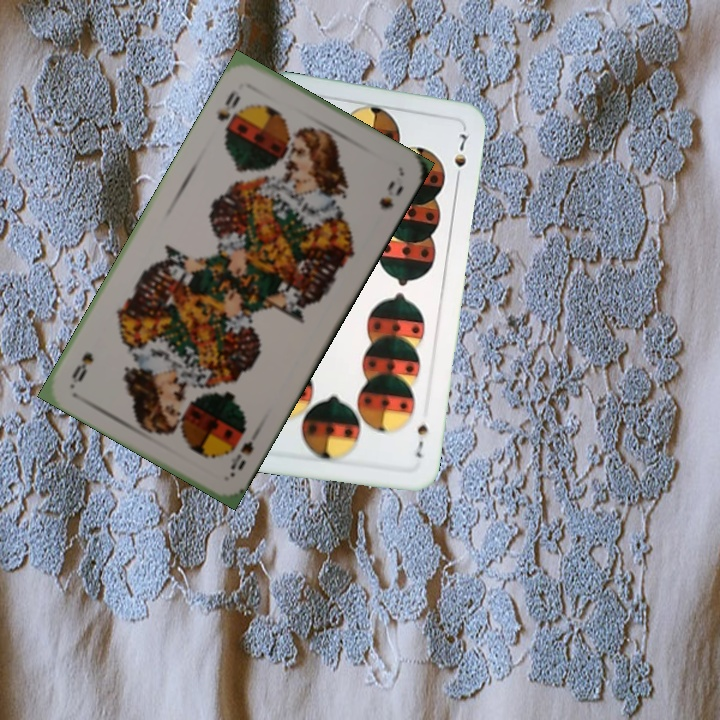S7: (411, 420, 431, 461)
SO: (212, 86, 243, 124), (226, 437, 256, 473)
